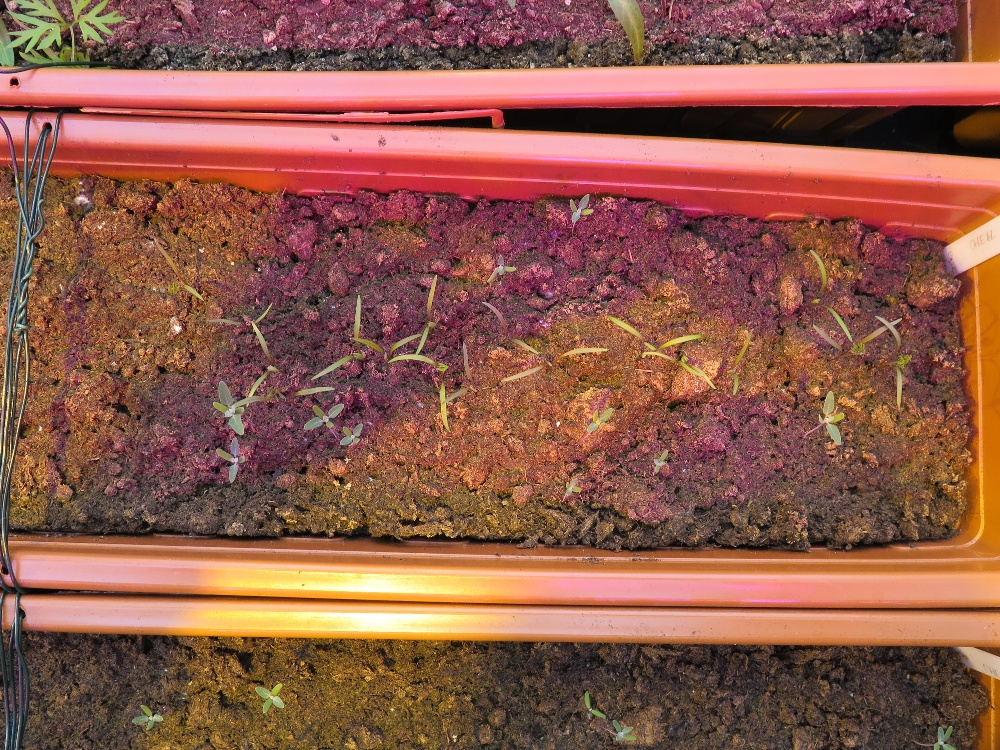crop: (587, 304, 737, 397), (168, 254, 296, 361), (302, 304, 443, 401), (798, 283, 900, 379), (473, 329, 607, 388), (416, 274, 477, 397), (889, 347, 923, 408), (809, 245, 839, 295)
weed: (300, 395, 382, 470), (573, 681, 639, 745), (212, 383, 266, 449), (568, 406, 637, 449), (214, 433, 268, 483), (807, 388, 848, 451), (241, 674, 287, 720), (473, 245, 516, 286), (552, 456, 591, 501), (652, 447, 687, 495), (563, 190, 602, 220), (134, 701, 166, 731), (923, 724, 959, 750)
